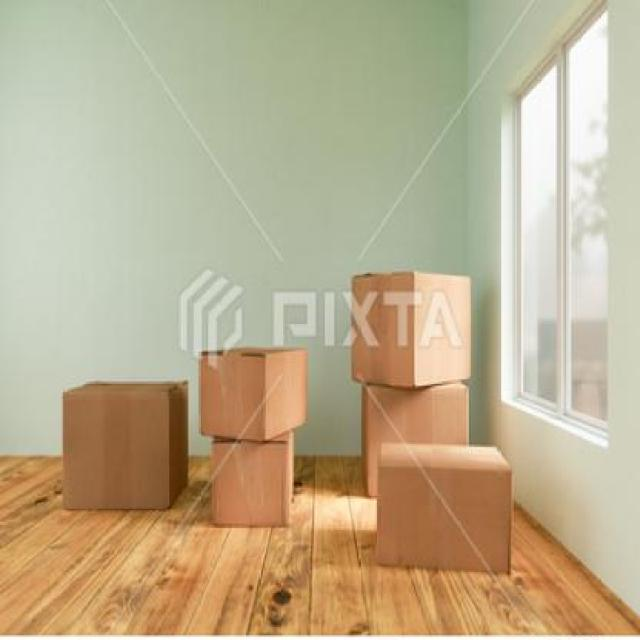box: (368, 429, 528, 613), (55, 374, 196, 541), (344, 261, 484, 397), (357, 369, 485, 511), (194, 332, 314, 452), (206, 427, 305, 545)
